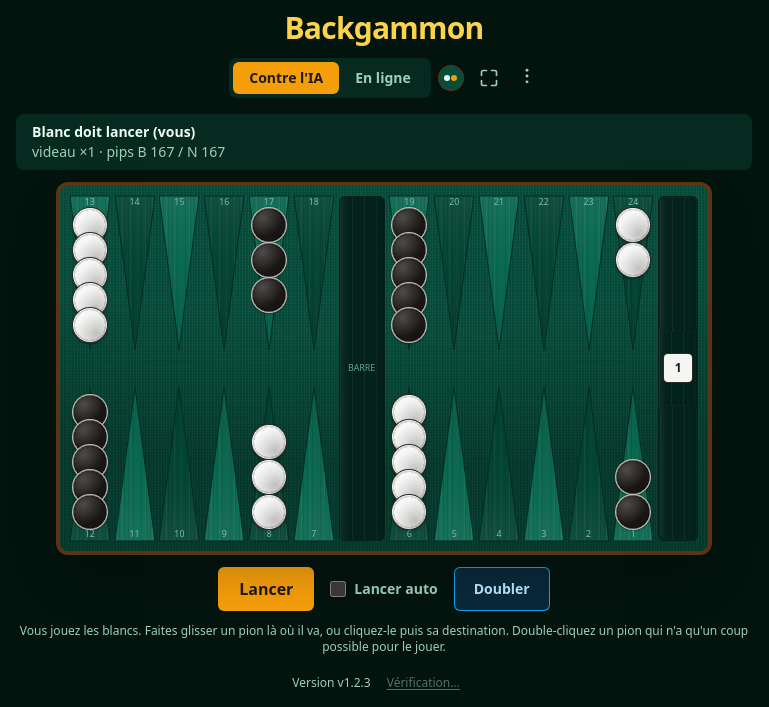
Test: App › rolls into the moving phase
Click the button "Lancer" at (266, 589), box [218,567,314,611]
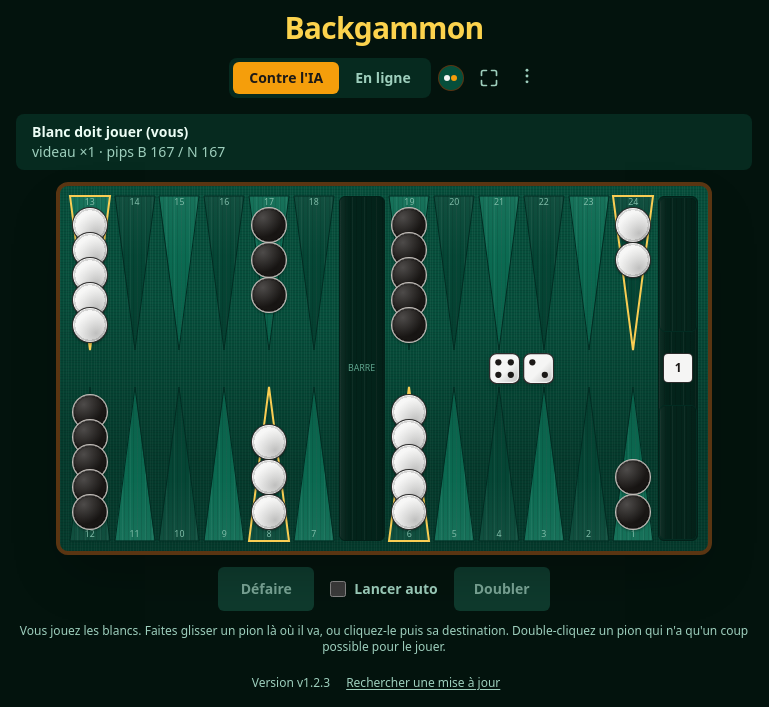
Check: the text "Blanc doit jouer (vous)" is shown, box [32,122,188,141]
